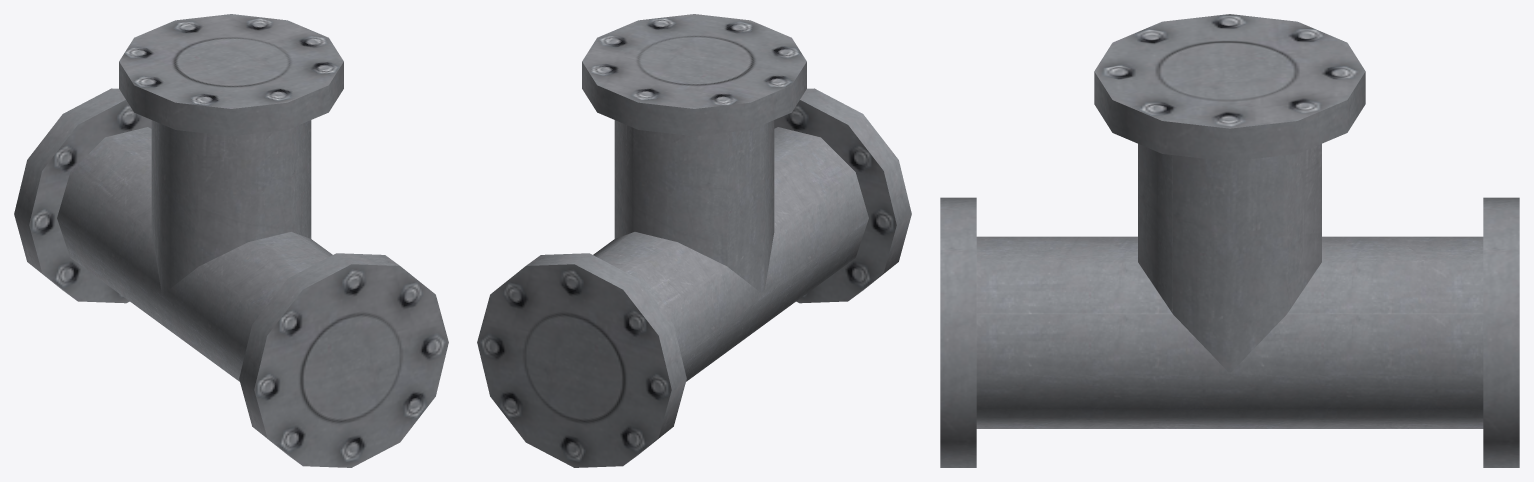
Rendered from p_t_joint.FBX.
3 renders of one model, left to right at view 1: azimuth 30°, elevation 25°; view 2: azimuth 150°, elevation 25°; view 3: azimuth 270°, elevation 25°, orthographic. The views are drawn at different scales.
Parts seen in each view (by area): view 1: Cylinder021; view 2: Cylinder021; view 3: Cylinder021.
Part boxes in pixels (x1=…): Cylinder021: x1=14, y1=14, x2=448, y2=467; Cylinder021: x1=477, y1=14, x2=911, y2=467; Cylinder021: x1=940, y1=14, x2=1519, y2=467.
Bounding box in the file's own units: 29.97 × 46.86 × 64.01.
Materials: 1 (1 with a texture image).
